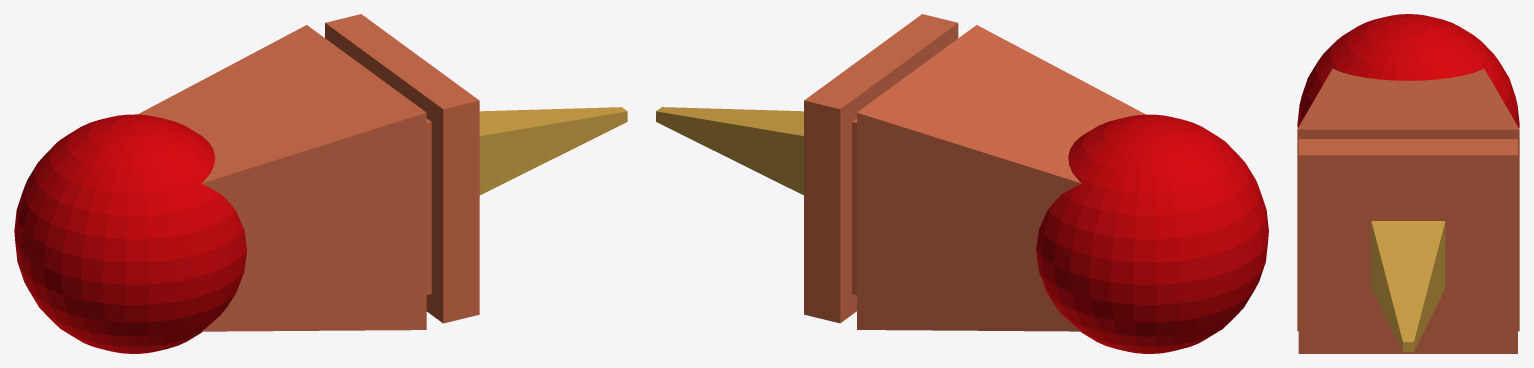
The model's file is en_bullets.fbx.
3 views of the same model, side by side, from view 1: azimuth 30°, elevation 25°; view 2: azimuth 150°, elevation 25°; view 3: azimuth 270°, elevation 25° (orthographic). The views are drawn at different scales.
Visible parts, largest first — view 1: Cube.001; view 2: Cube.001; view 3: Cube.001.
Boxes of the visible parts, x1,y1,x2,y2 form: Cube.001: (14,14,627,353); Cube.001: (656,14,1268,353); Cube.001: (1297,14,1519,353).
Size of the model in its own units: 642 by 224 by 224.
